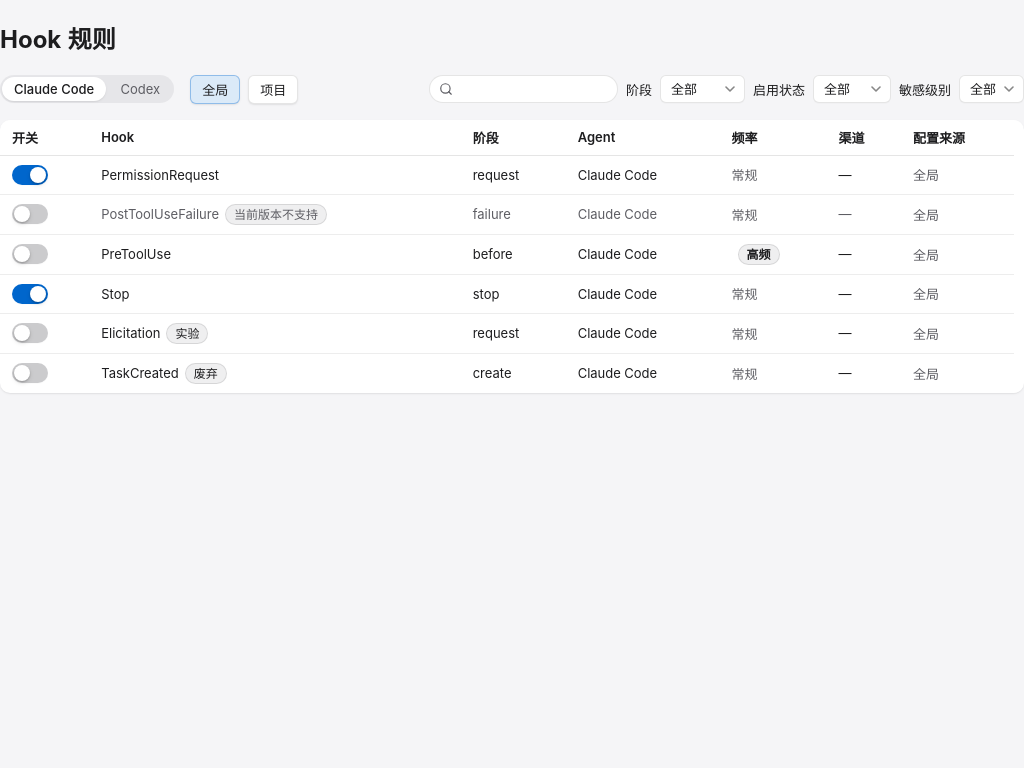
Scenario: PermissionRequest aggregation stays disabled with an explanatory tooltip
Click the row "PermissionRequest request Claude Code 常规 — 全局" at (507, 175), box 0,156 -> 1014,195
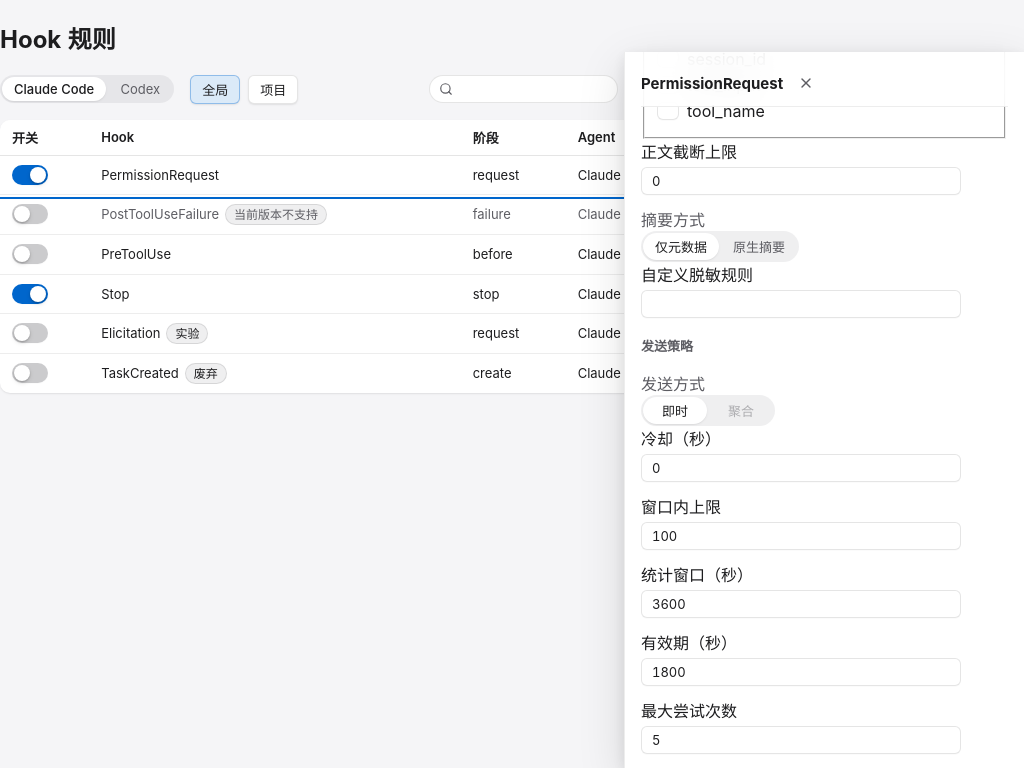
Result: the radio button labelled "聚合" is disabled at 709,397 -> 773,424
